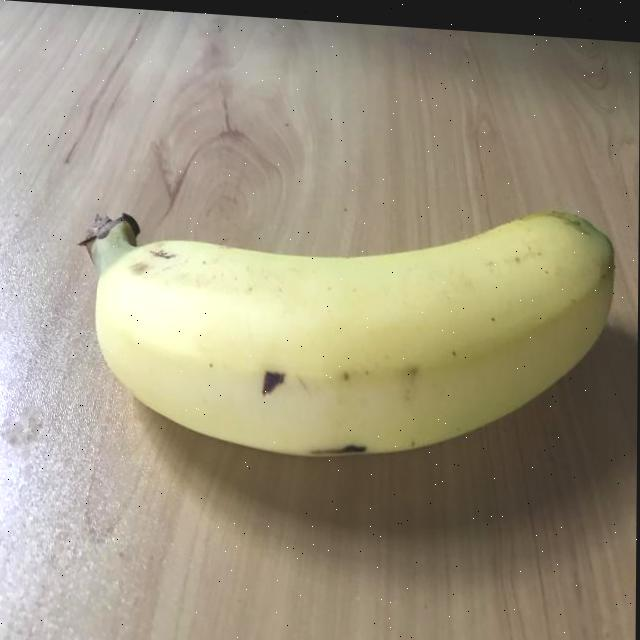banana: (75, 160, 625, 487)
